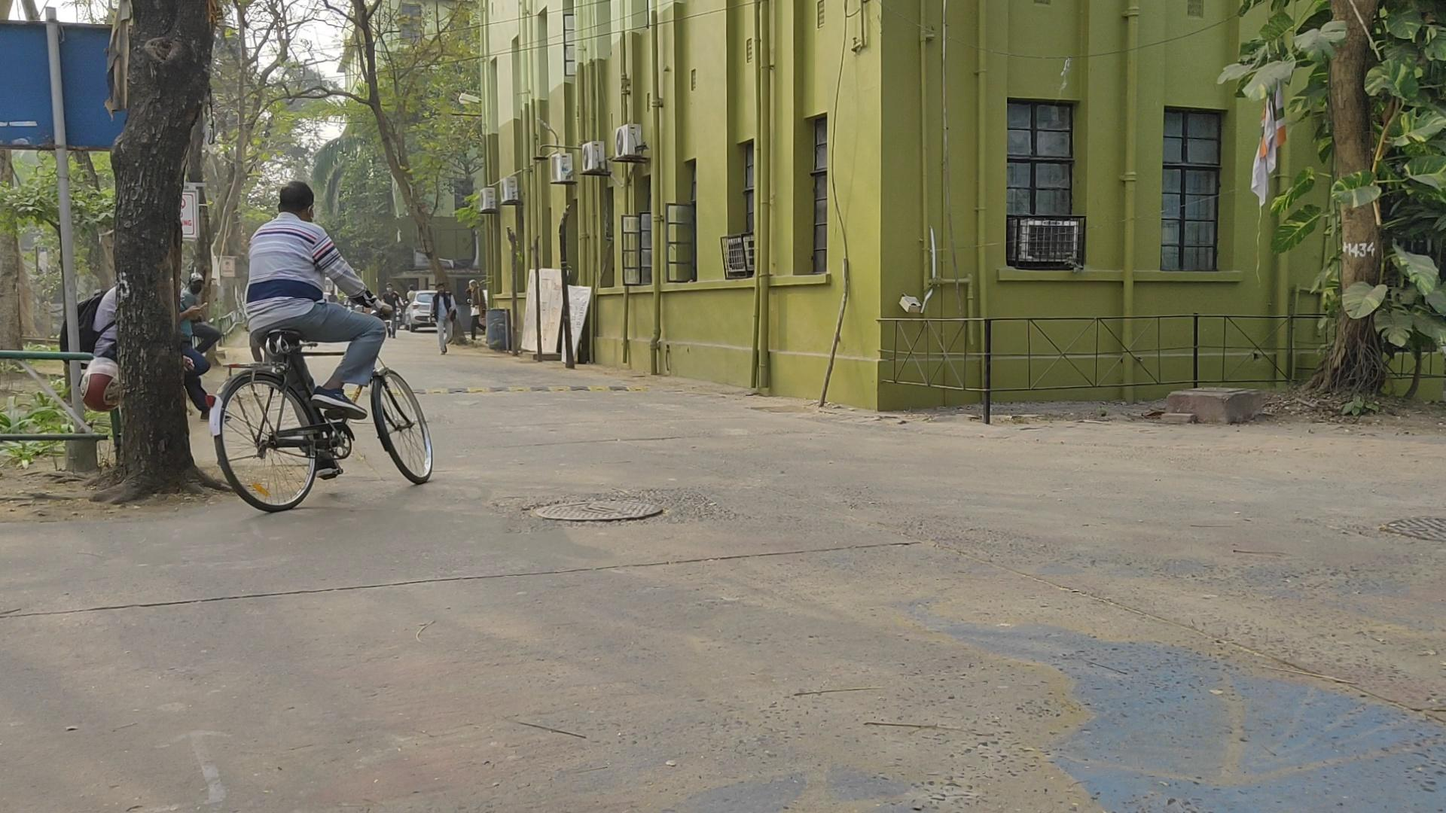bike: (209, 183, 434, 513)
car: (404, 289, 444, 333)
